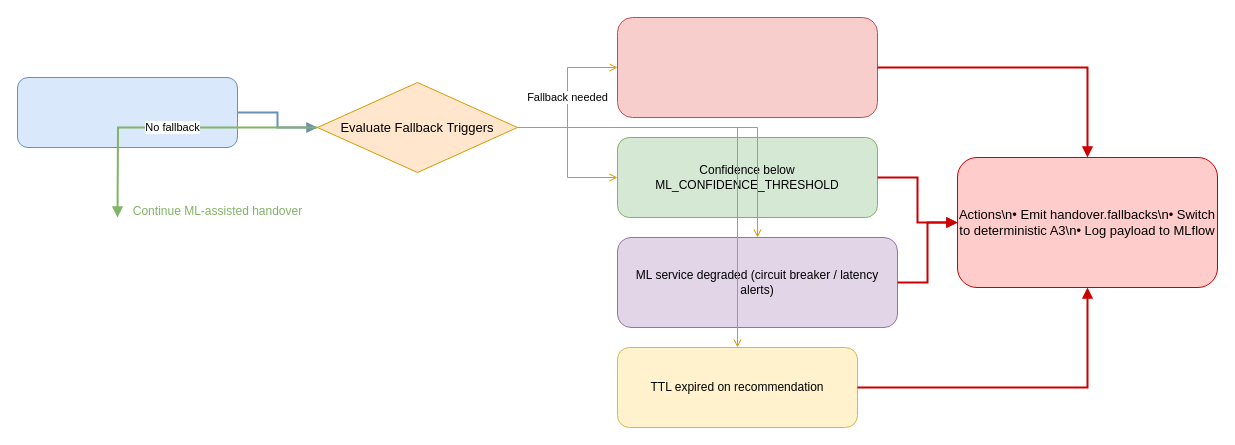
The diagram is 1235 pixels wide and 445 high, and some of its shapes have lost their labels. Each missing label, with the centre of its shape:
"Monitor QoS & Confidence" goes at point (127, 112).
"Policy reversion when fallbacks >5% or priority breach" goes at point (747, 67).
